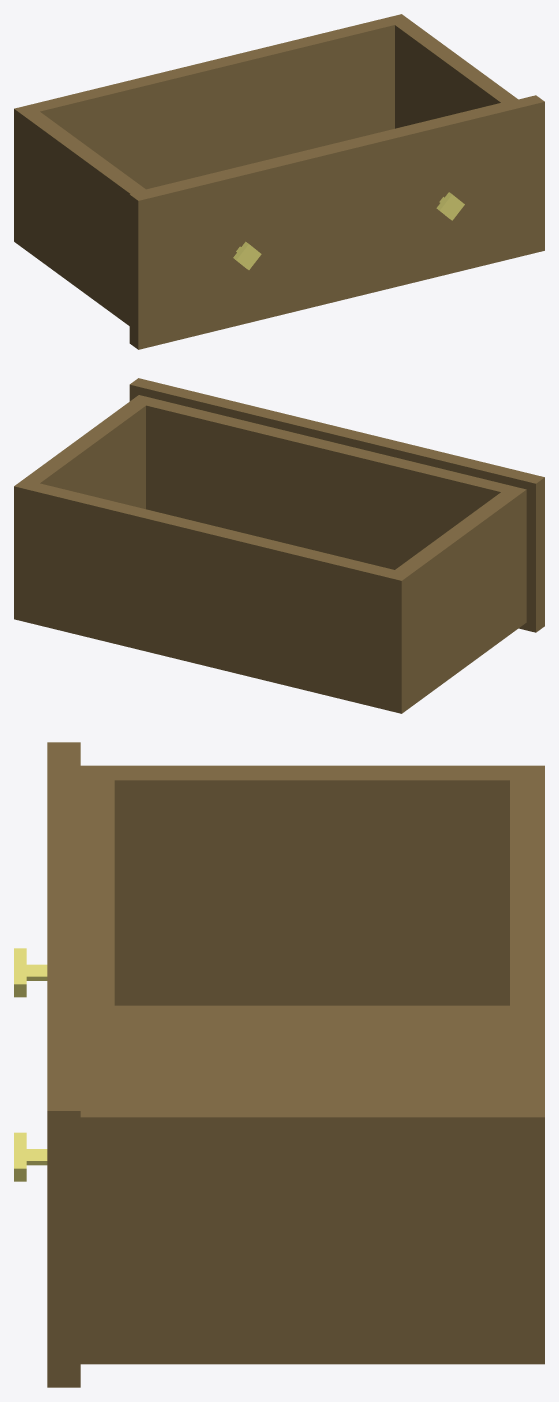
Rendered from Itr_Wardrobe2_Drawer_Big_01.FBX.
The picture shows the model from 3 angles, top to bottom: view 1: azimuth 30°, elevation 25°; view 2: azimuth 150°, elevation 25°; view 3: azimuth 270°, elevation 25°; orthographic projection. The views are drawn at different scales.
Parts seen in each view (by area): view 1: Itr_Wardrobe2_Drawer_Big_01; view 2: Itr_Wardrobe2_Drawer_Big_01; view 3: Itr_Wardrobe2_Drawer_Big_01.
Boxes of the visible parts, bbox=[...] form: Itr_Wardrobe2_Drawer_Big_01: bbox=[14, 14, 544, 349]; Itr_Wardrobe2_Drawer_Big_01: bbox=[14, 378, 544, 713]; Itr_Wardrobe2_Drawer_Big_01: bbox=[14, 742, 544, 1387].
Size of the model in its own units: 37.86 by 13.26 by 23.04.
